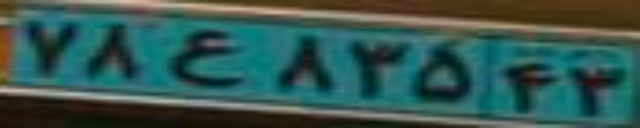2: (348, 40, 408, 98)
3: (567, 62, 626, 115)
4: (501, 62, 556, 112)
5: (413, 47, 473, 100)
7: (25, 21, 77, 76)
8: (275, 36, 332, 92), (86, 22, 139, 80)
ain: (160, 29, 239, 88)
